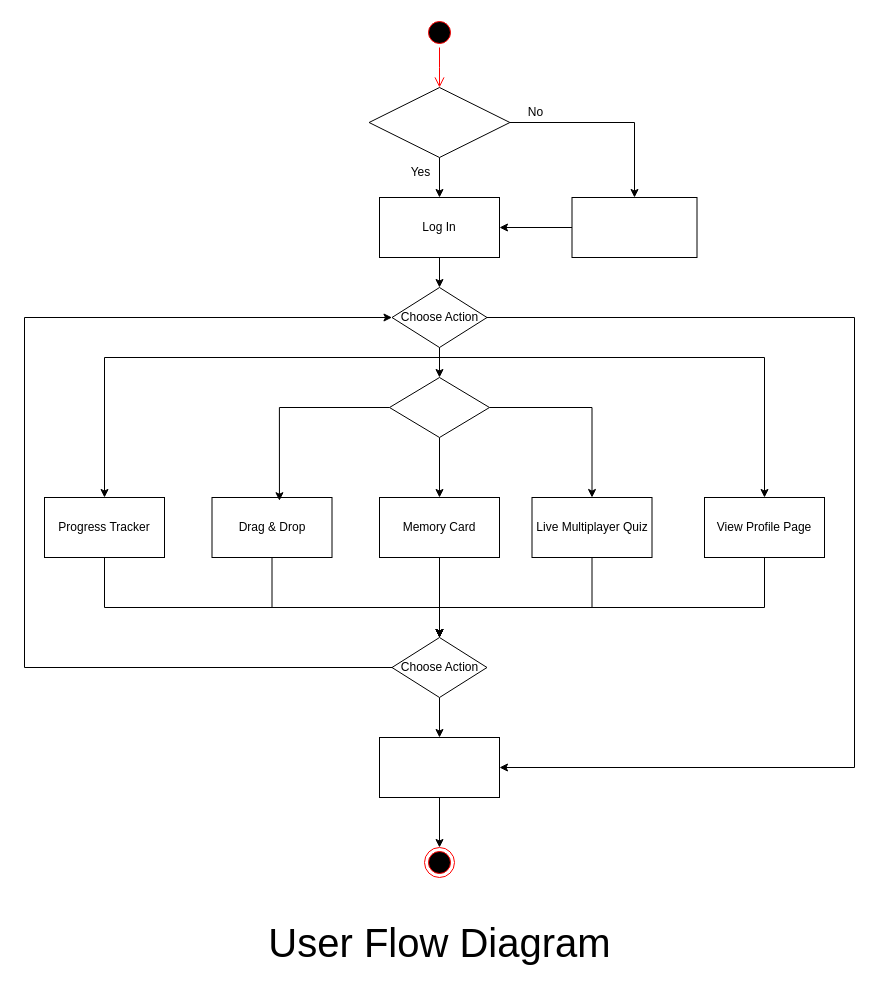
Some shapes in this 880 by 984 pixel diagram are drawn without their labels. Here are the shapes that lost their labels. From the top down, the centre of each, then its label:
the point at 439,122: Does user has an account?
the point at 634,227: Sign Up
the point at 439,407: Play Game
the point at 439,767: Log Out
